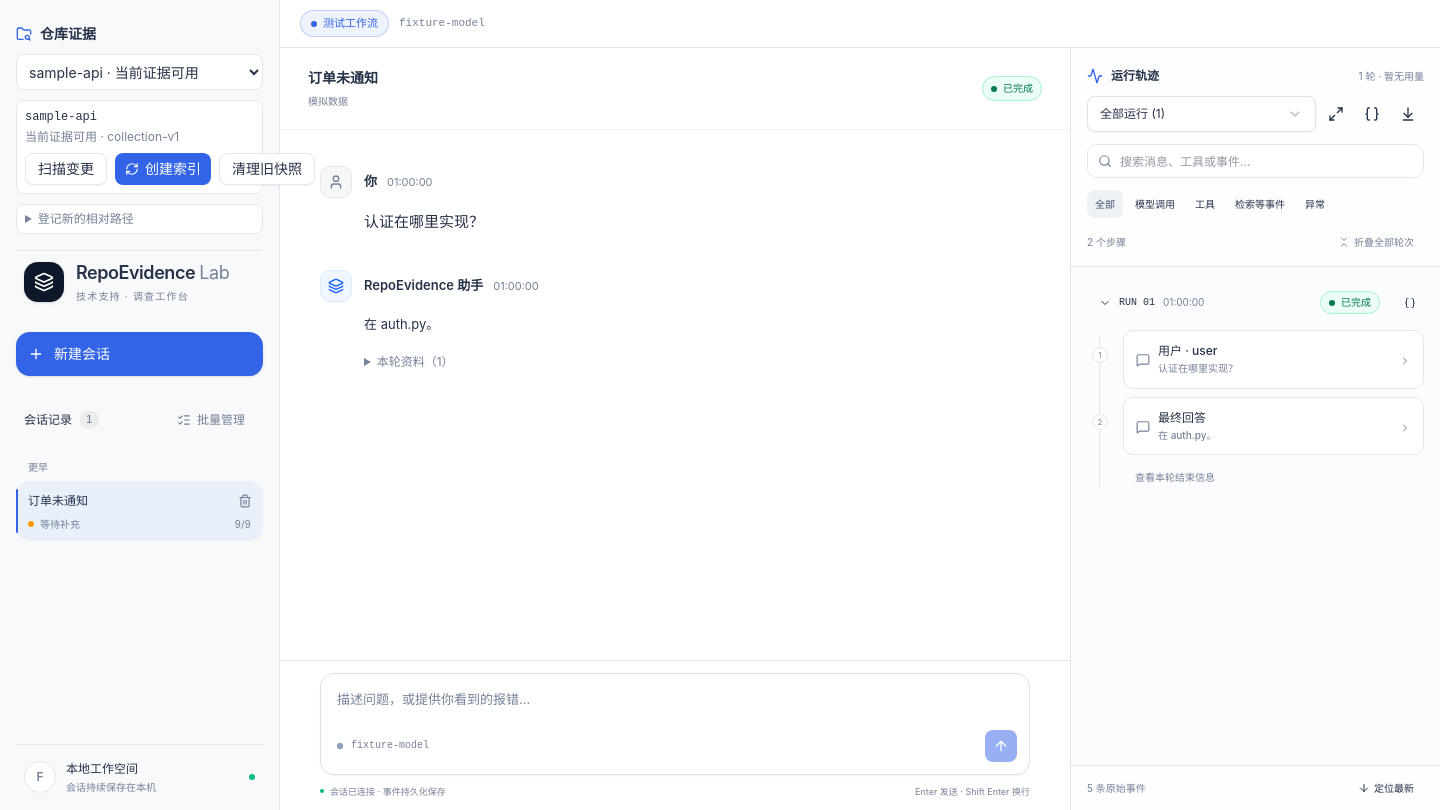
Test: chat workspace interactions › loads a repository citation from the frozen evidence endpoint
Step 1. Click the heading "本轮资料（1）" → (415, 362), box 377,354 -> 454,369
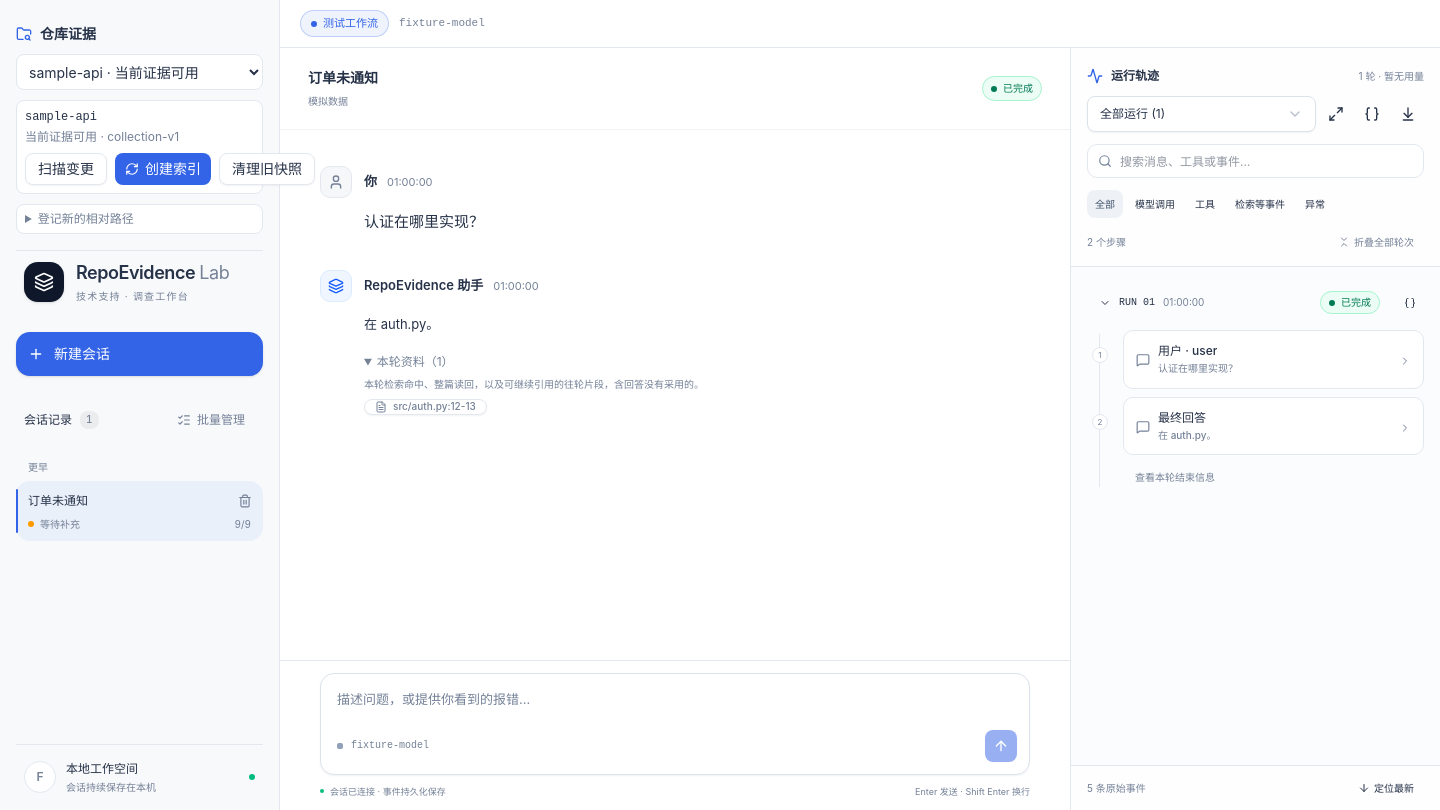
Step 2. Click the button "src/auth.py:12-13" → (425, 407), box 364,399 -> 487,415
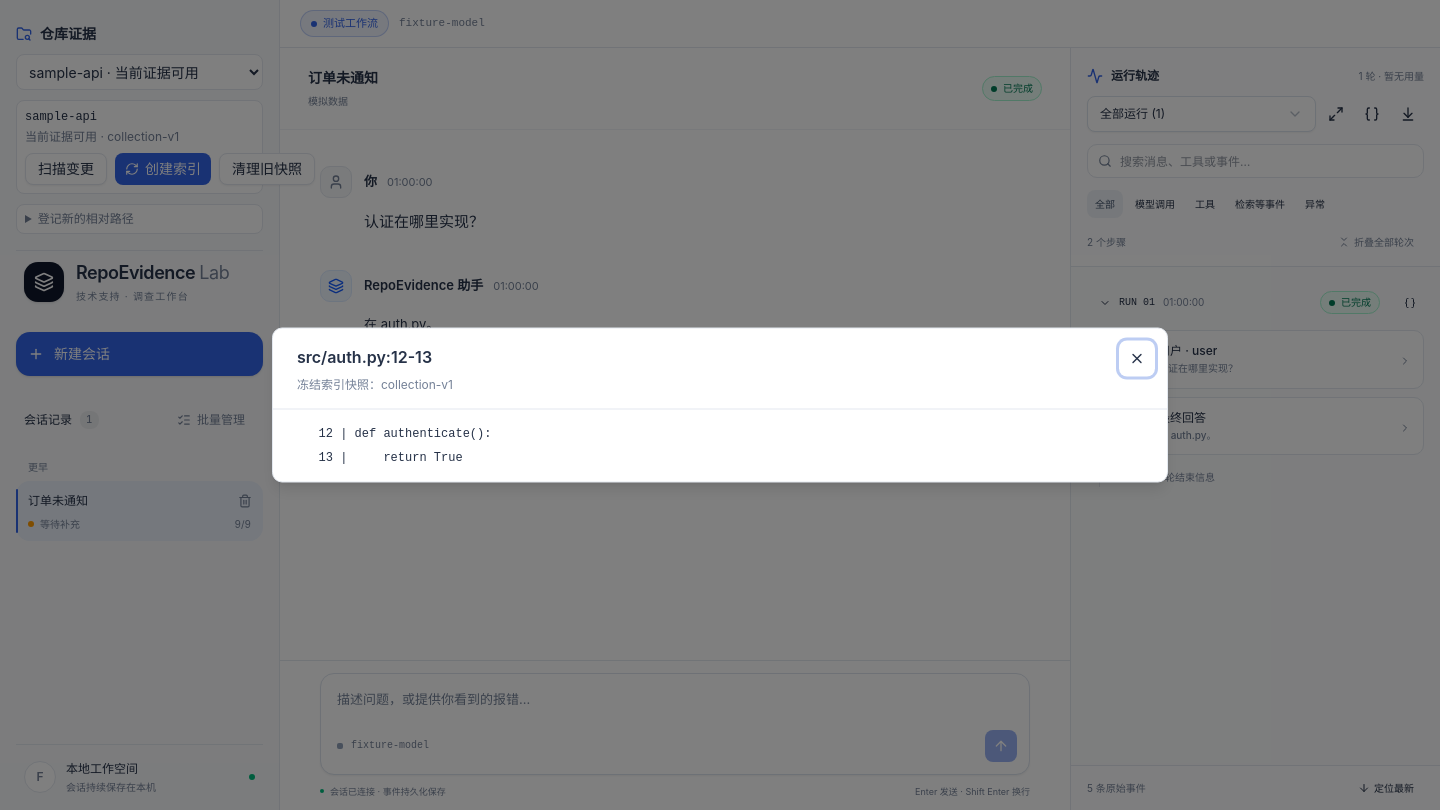
expect the text "12 | def authenticate(): 13 | return True" is shown: met, box 297,426 -> 491,464
